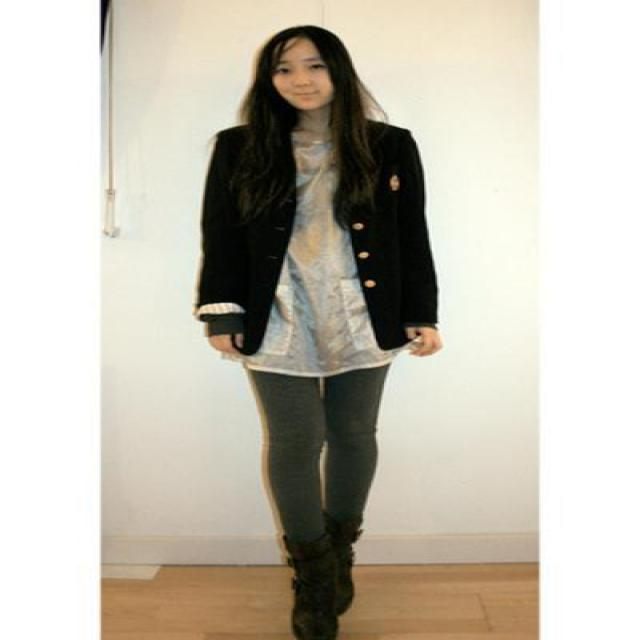jacket: (192, 119, 437, 354)
pants: (248, 346, 402, 536)
shirt: (250, 115, 400, 387)
shoe: (283, 514, 362, 639)
